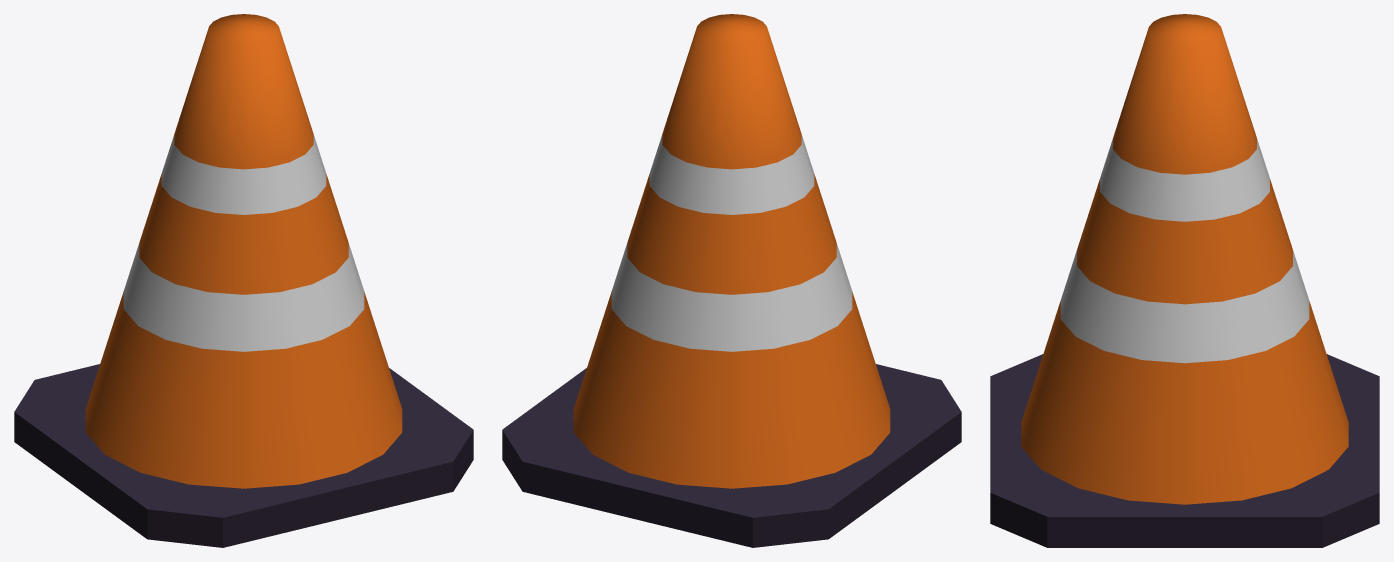
3 renders of one model, left to right at view 1: azimuth 30°, elevation 25°; view 2: azimuth 150°, elevation 25°; view 3: azimuth 270°, elevation 25°, orthographic. The views are drawn at different scales.
Visible parts, largest first — view 1: Cone, Base; view 2: Cone, Base; view 3: Cone, Base.
Boxes of the visible parts, x1=… form: Cone: x1=85, y1=14, x2=402, y2=488; Base: x1=14, y1=364, x2=473, y2=547; Cone: x1=573, y1=14, x2=890, y2=488; Base: x1=502, y1=364, x2=961, y2=547; Cone: x1=1021, y1=14, x2=1348, y2=504; Base: x1=990, y1=354, x2=1379, y2=547.
Bounding box in the file's own units: 0.34 × 0.425 × 0.34.
